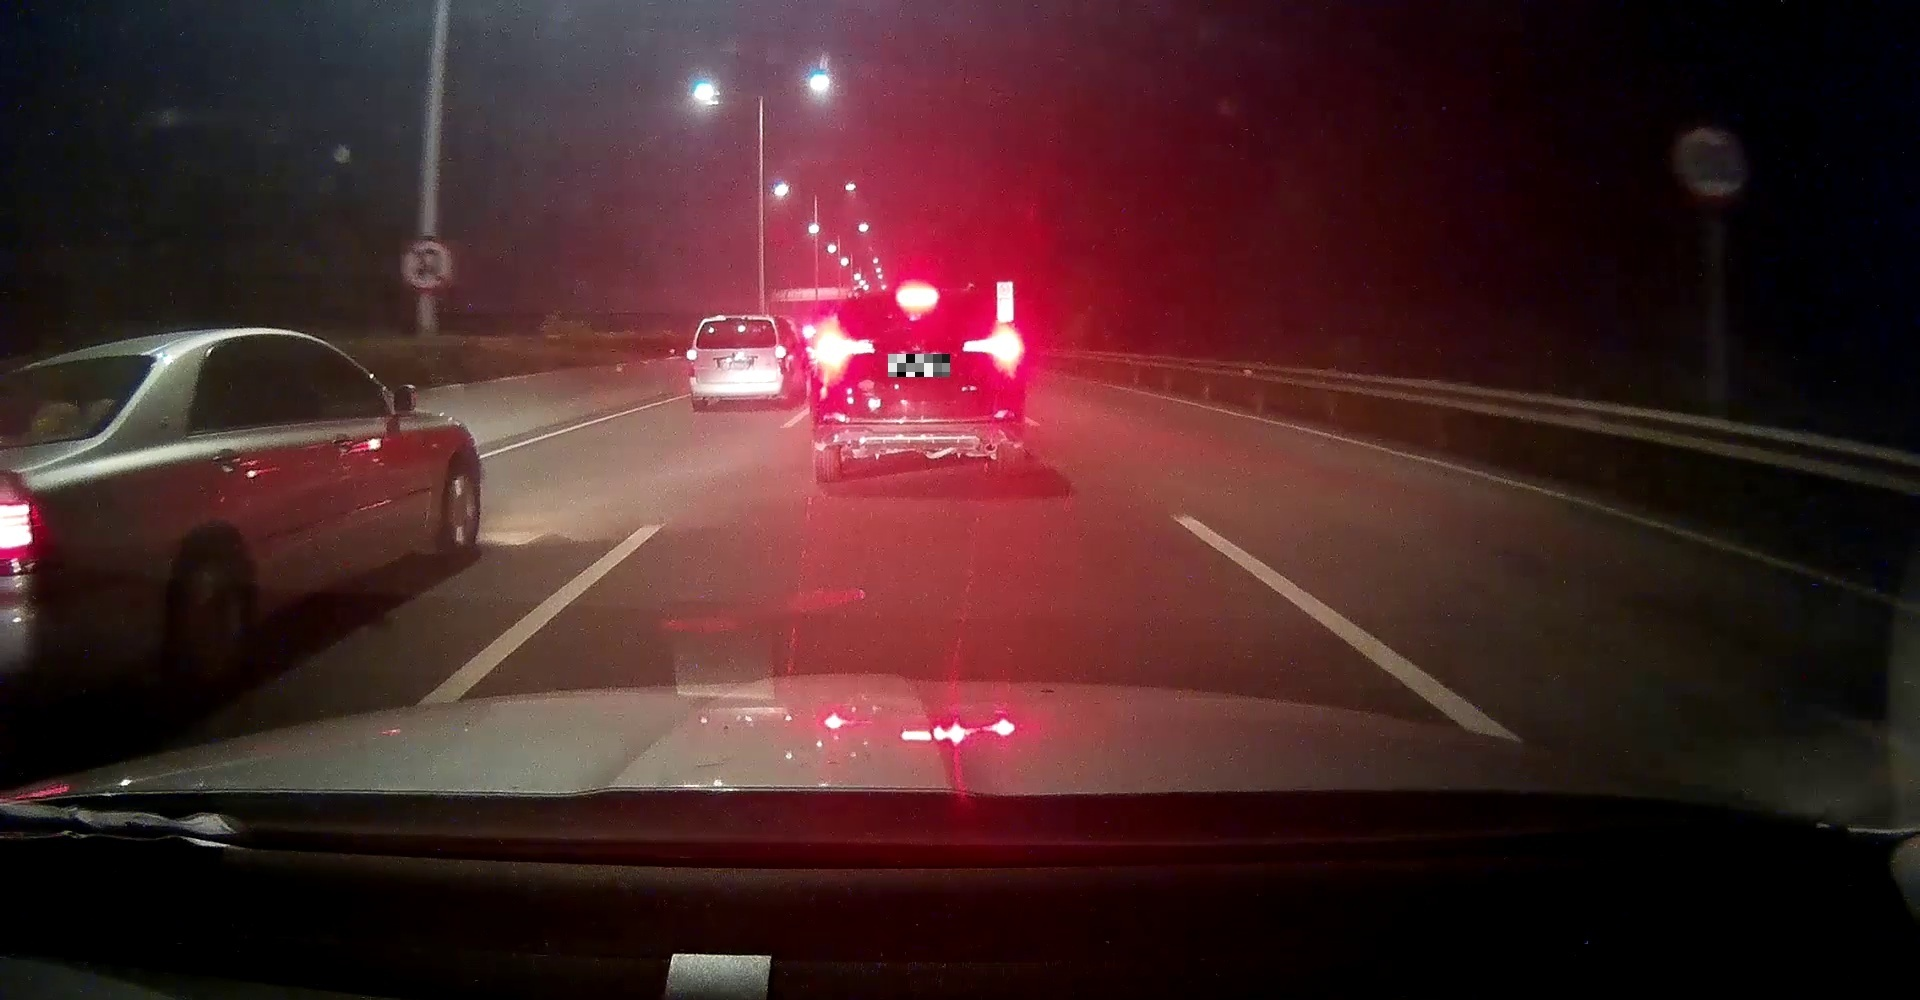L_light: (813, 330, 876, 360), (684, 348, 697, 379)
R_light: (964, 329, 1025, 362), (775, 345, 789, 377)
T_light: (895, 286, 938, 306), (723, 316, 748, 322)
night-brake: (809, 280, 1027, 478)
night-no: (684, 313, 791, 414)
plate_1: (888, 354, 950, 377)
